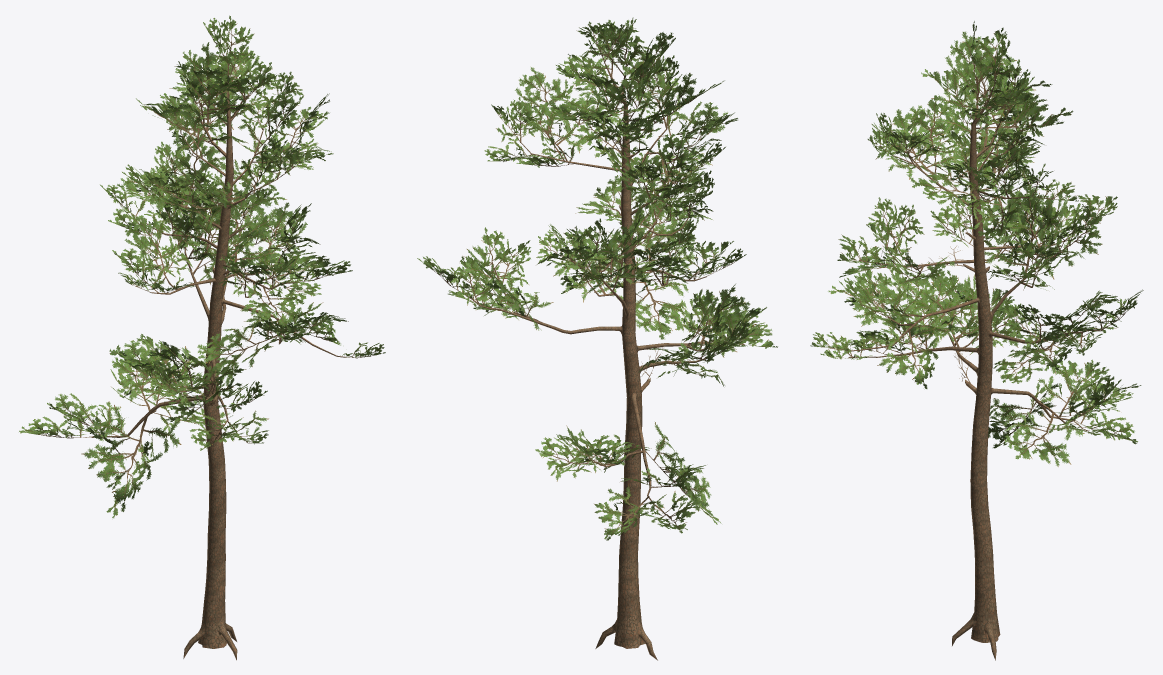
3 renders of one model, left to right at view 1: azimuth 30°, elevation 25°; view 2: azimuth 150°, elevation 25°; view 3: azimuth 270°, elevation 25°, orthographic. The views are drawn at different scales.
Parts seen in each view (by area): view 1: Pine_big_1_LOD0_Bark_Mat_0; view 2: Pine_big_1_LOD0_Bark_Mat_0; view 3: Pine_big_1_LOD0_Bark_Mat_0.
Part boxes in pixels (x1,y1,x2,y2): Pine_big_1_LOD0_Bark_Mat_0: [19, 15, 385, 660]; Pine_big_1_LOD0_Bark_Mat_0: [417, 17, 777, 660]; Pine_big_1_LOD0_Bark_Mat_0: [810, 21, 1143, 660].
Size of the model in its own units: 7.46 by 16.89 by 8.37.
